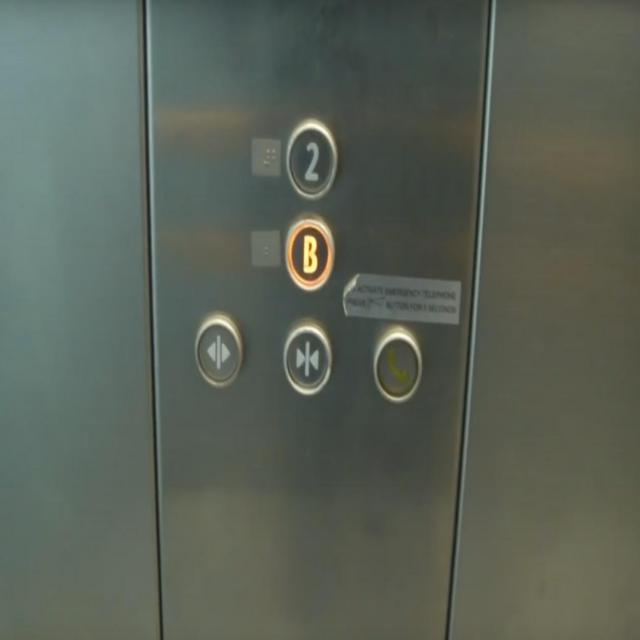2: (283, 116, 340, 204)
B: (281, 210, 336, 294)
call: (370, 323, 422, 407)
close: (280, 316, 334, 400)
open: (190, 308, 246, 392)
